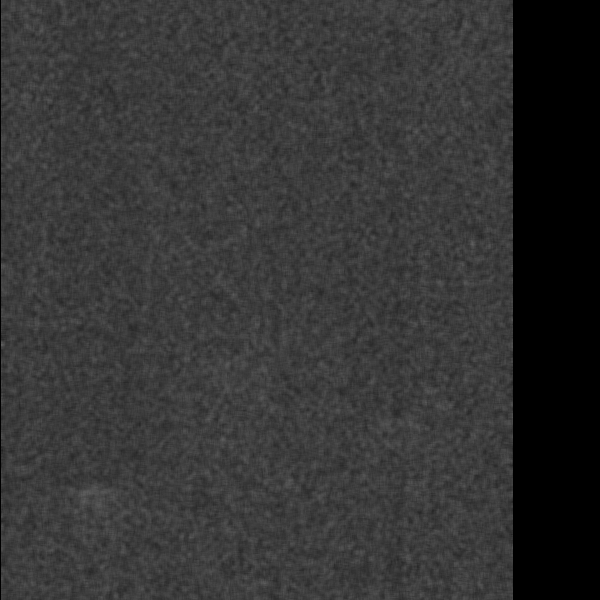spark: (51, 481, 141, 546)
